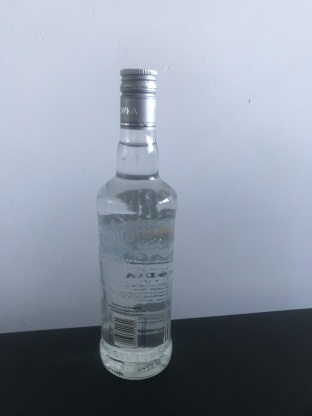nakretka: (118, 67, 158, 131)
